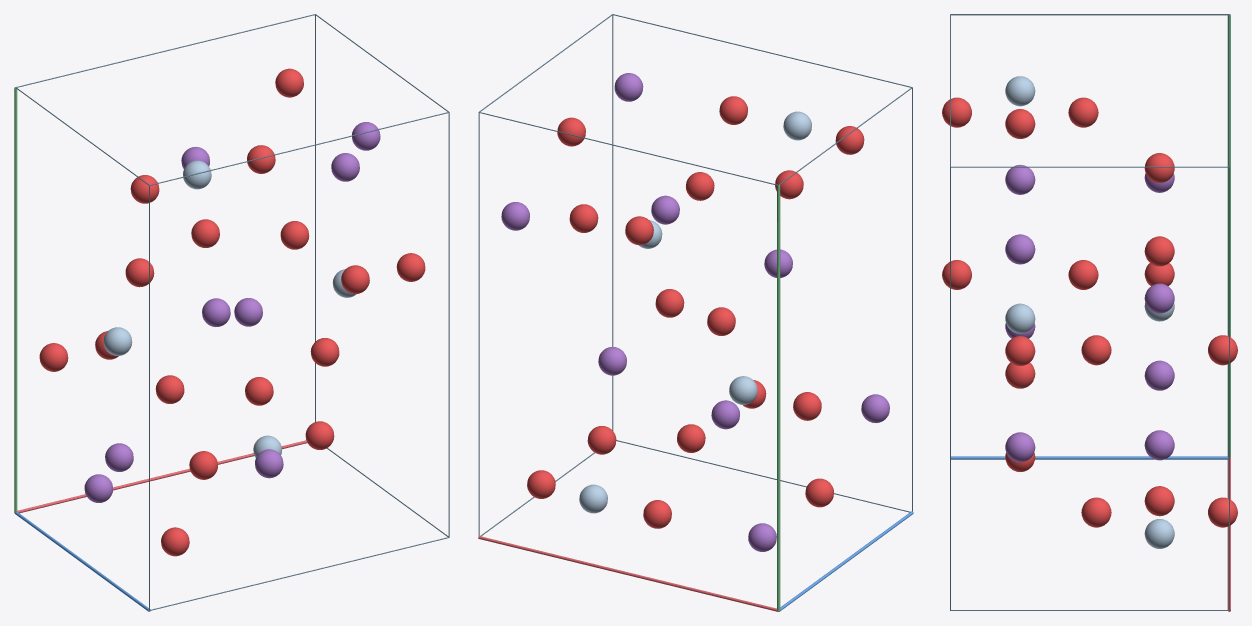
Rendered from chat-tarapacaite.glb.
3 views of the same model, side by side, from view 1: azimuth 30°, elevation 25°; view 2: azimuth 150°, elevation 25°; view 3: azimuth 270°, elevation 25° (orthographic). The views are drawn at different scales.
Parts seen in each view (by area): view 1: Ô mạng và các trục a, b, c, O3 · O · 1 (×7), K1 · K · 1 (×4), O1 · O · 1 (×4), O2 · O · 1 (×4), K2 · K · 1 (×3), Cr · Cr · 1 (×2); view 2: Ô mạng và các trục a, b, c, O3 · O · 1 (×7), K2 · K · 1 (×4), O1 · O · 1 (×4), O2 · O · 1 (×4), K1 · K · 1 (×4), Cr · Cr · 1 (×3); view 3: O3 · O · 1 (×8), Ô mạng và các trục a, b, c, K1 · K · 1 (×4), O1 · O · 1 (×4), Cr · Cr · 1 (×3), O2 · O · 1 (×3), K2 · K · 1 (×2).
Boxes of the visible parts, x1,y1,x2,y2 form: Ô mạng và các trục a, b, c: [14, 14, 449, 611]; O3 · O · 1 (×7): [130, 175, 369, 449]; K1 · K · 1 (×4): [84, 122, 380, 502]; O1 · O · 1 (×4): [39, 145, 425, 479]; O2 · O · 1 (×4): [125, 68, 339, 556]; K2 · K · 1 (×3): [105, 153, 359, 478]; Cr · Cr · 1 (×2): [103, 160, 211, 355]; Ô mạng và các trục a, b, c: [478, 14, 913, 611]; O3 · O · 1 (×7): [527, 126, 864, 498]; K2 · K · 1 (×4): [501, 195, 889, 429]; O1 · O · 1 (×4): [569, 96, 821, 528]; O2 · O · 1 (×4): [557, 117, 833, 507]; K1 · K · 1 (×4): [598, 73, 792, 551]; Cr · Cr · 1 (×3): [579, 111, 811, 513]; O3 · O · 1 (×8): [942, 97, 1237, 527]; Ô mạng và các trục a, b, c: [950, 14, 1230, 611]; K1 · K · 1 (×4): [1005, 164, 1174, 460]; O1 · O · 1 (×4): [1005, 109, 1174, 516]; Cr · Cr · 1 (×3): [1005, 76, 1174, 548]; O2 · O · 1 (×3): [1005, 153, 1174, 388]; K2 · K · 1 (×2): [1005, 283, 1174, 462].
Size of the model in its own units: 8.13 by 10.44 by 6.29.
